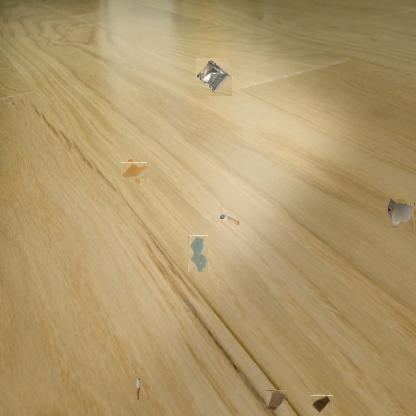dirty: (196, 58, 232, 96), (385, 198, 415, 228), (266, 390, 288, 412), (312, 394, 333, 415), (218, 213, 240, 225), (133, 376, 141, 400)
liquid: (188, 235, 208, 272), (124, 160, 145, 182)
